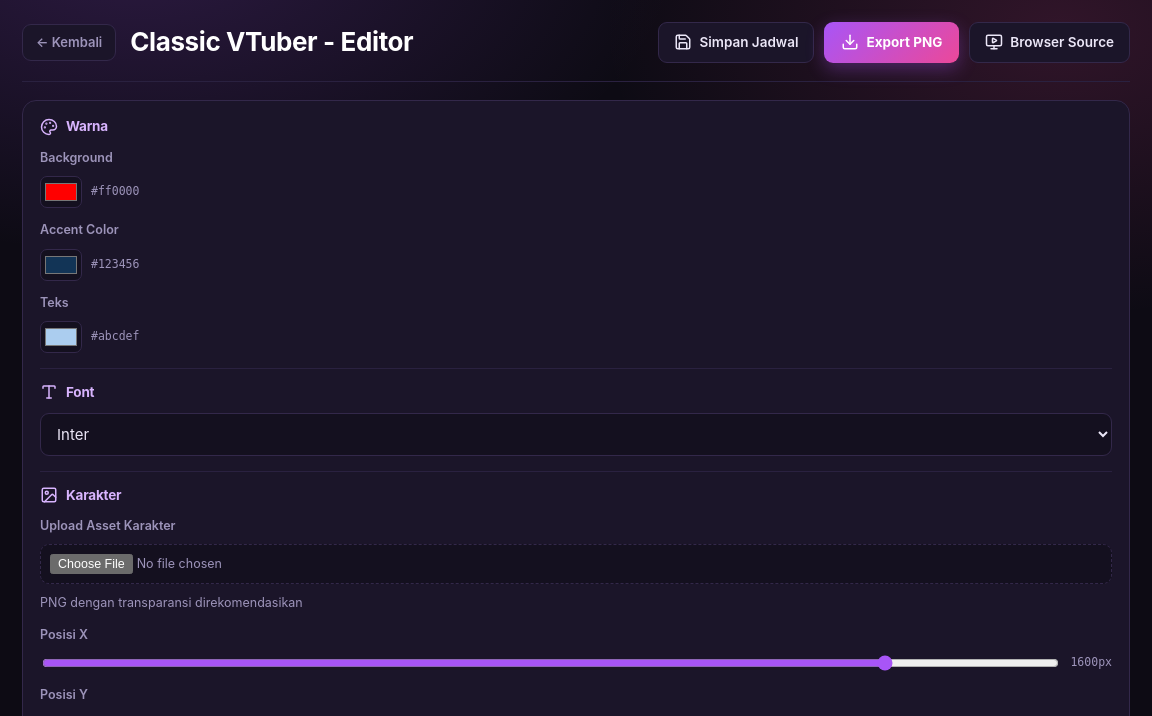
TemplateEditor — konfigurasi tersimpan › mengubah satu warna tidak menghapus warna lain
This screenshot has width=1152, height=716.
Step 1. Type "#00ff00" into the colour field next to "#ff0000" → (61, 192), box [40,176,82,208]
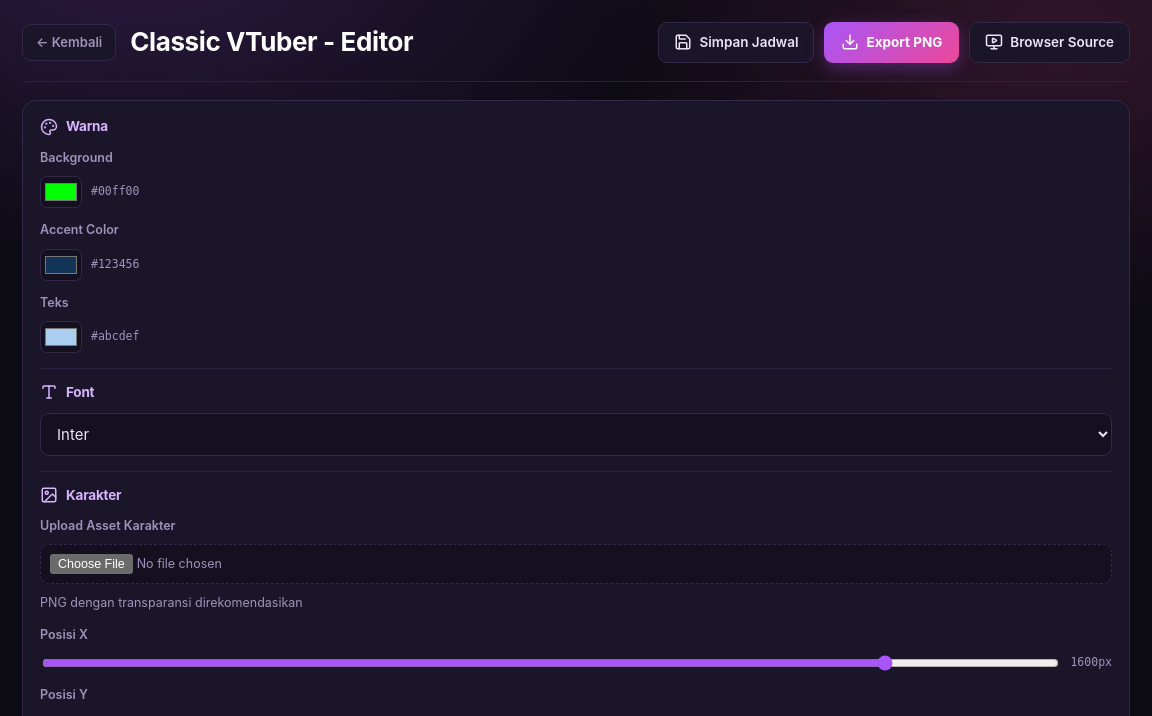
Now the text "#00ff00" is shown, box [91,183,140,201]
